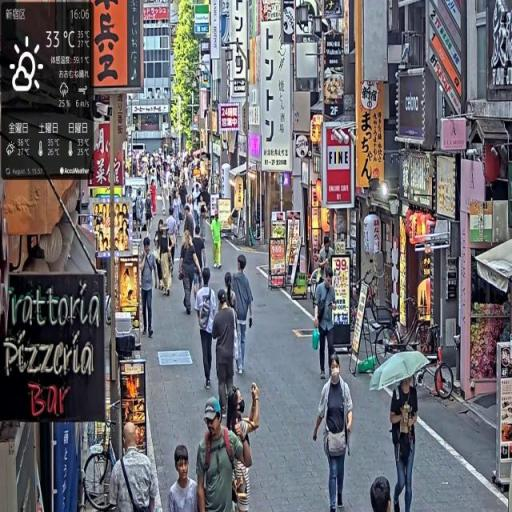person: (313, 351, 356, 512), (196, 397, 250, 512), (109, 418, 163, 512), (389, 374, 420, 512), (212, 289, 240, 428), (230, 254, 255, 376), (197, 265, 220, 395), (314, 266, 338, 381), (168, 446, 204, 512), (139, 237, 160, 340), (180, 230, 202, 319), (157, 223, 175, 296), (369, 476, 396, 512)
